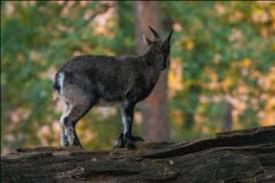Non_Gorille: (34, 11, 198, 154)
